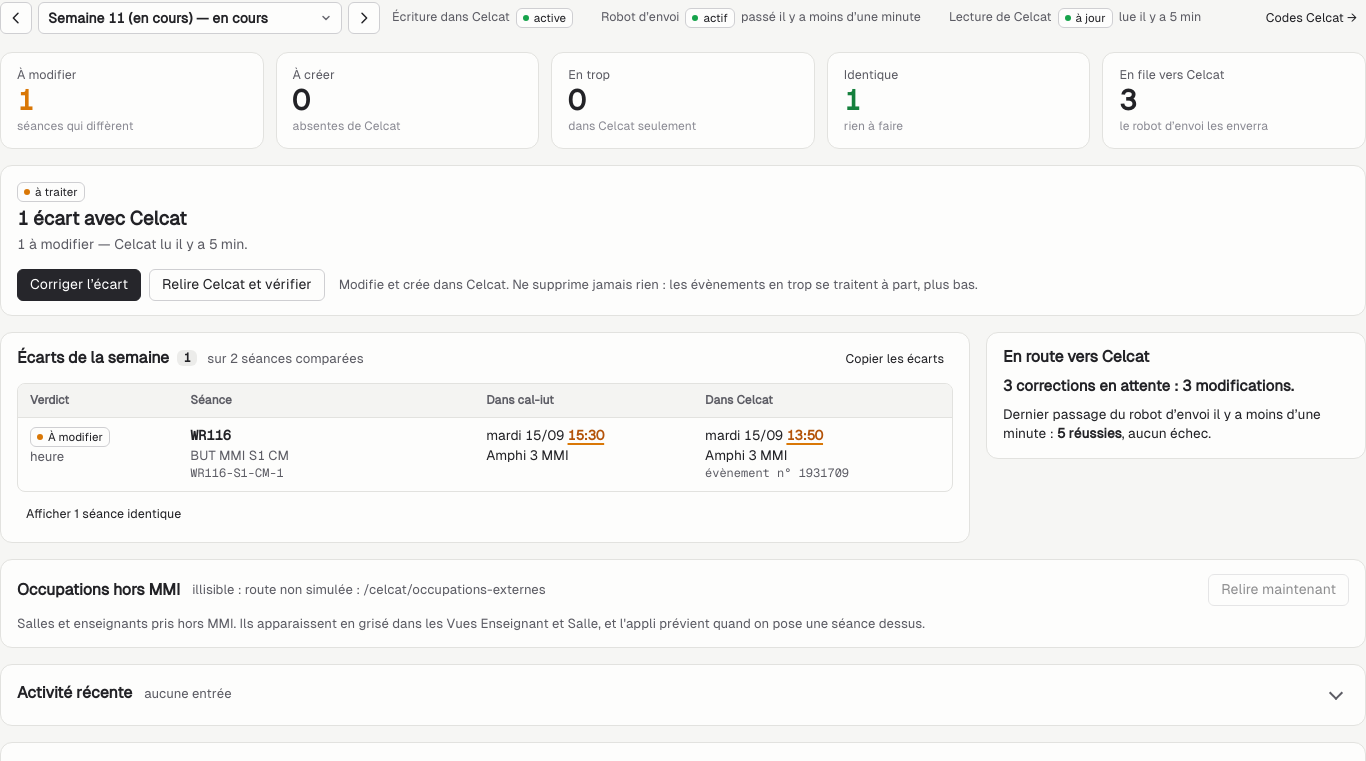
Corriger va jusqu'à la vérification › met en file SANS suppression, attend le worker, demande un relevé, puis relit
Click the button "Corriger l’écart" at (79, 285), box [17,269,141,301]
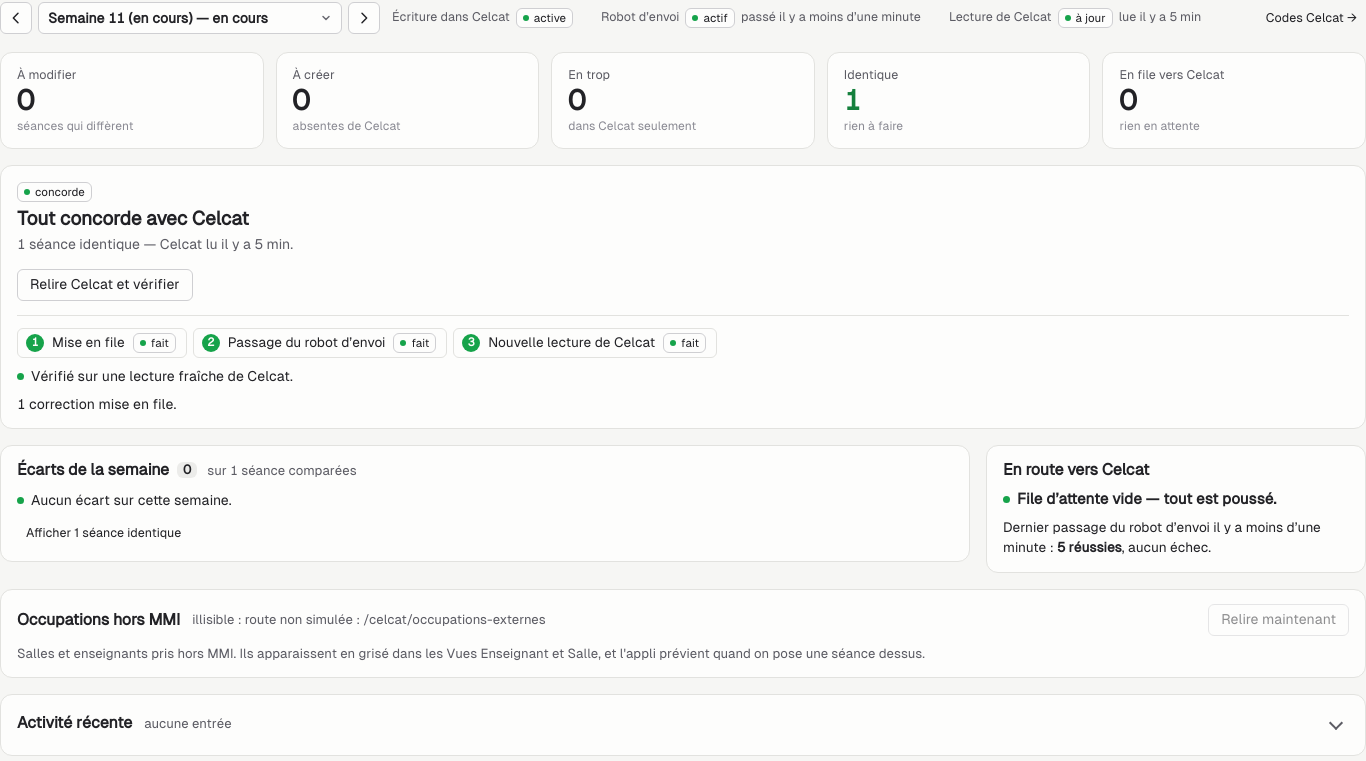
expect the heading "Tout concorde avec Celcat" is shown: met, box [17,207,249,229]
expect the message with test id "suivi-boucle" shows "vérifié sur une lecture fraîche de celcat": met, box [31,368,293,384]
